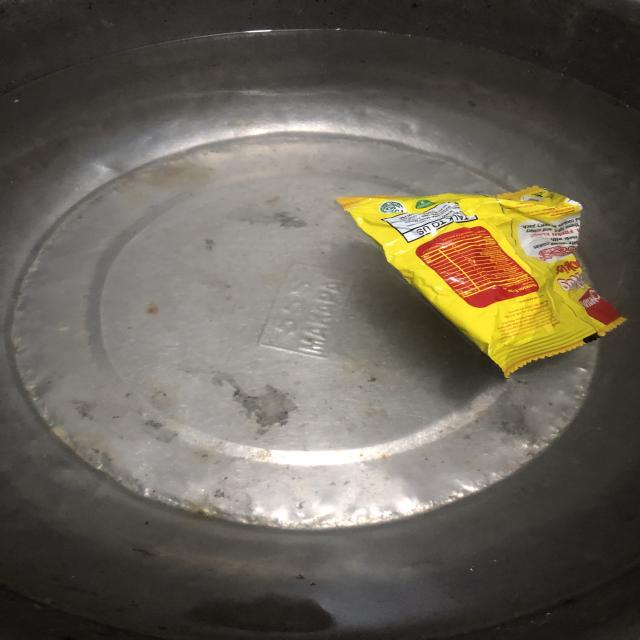Plastic Wrapper: (336, 186, 626, 377)
